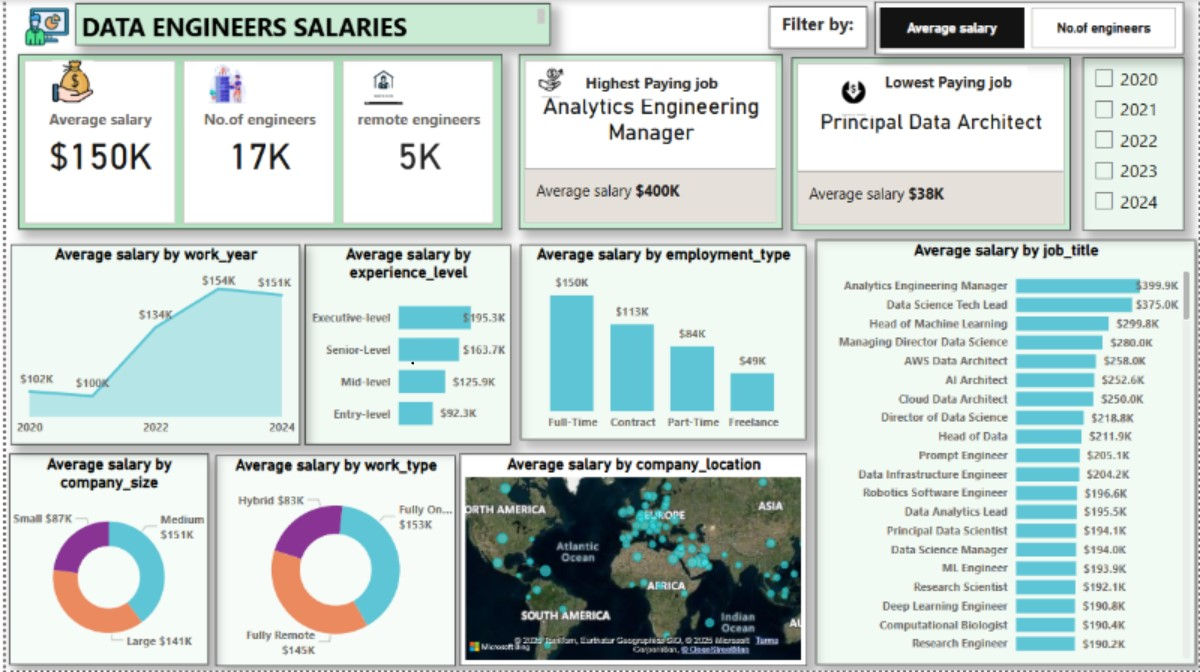

The dashboard page shown, as its layout file describes it:
{"tool":"powerbi","page":{"name":"Dashboard","canvas":[1280,720],"ordinal":0},"visuals":[{"type":"cardVisual","fields":{"Data":["All measures.Average salary","All measures.No.of engineers","All measures.No.of fully remote engineers"]},"box":[13.5,58.7,519.7,188.3],"z":0},{"type":"cardVisual","fields":{"Data":["Min(dim_job_title.job_title)"]},"box":[550.5,58.3,283.4,187.8],"z":1000},{"type":"cardVisual","fields":{"Data":["Min(dim_job_title.job_title)"]},"box":[843.6,61.5,299.6,186.2],"z":2000},{"type":"areaChart","fields":{"Y":["All measures.Average salary"],"Category":["Fact_data_salaries.work_year"]},"box":[4.9,262.3,310.9,215.4],"z":3000},{"type":"barChart","fields":{"Y":["All measures.Average salary"],"Category":["dim_experience_level.experience_level"]},"box":[320.4,261.7,221.3,215.2],"z":4000},{"type":"columnChart","fields":{"Y":["All measures.Average salary"],"Category":["dim_employment_type.employment_type"]},"box":[552.7,261.7,306.9,210.3],"z":5000},{"type":"pieChart","fields":{"Y":["All measures.Average salary"],"Category":["dim_company_size.company_size"]},"box":[3.2,487.4,213.7,226.7],"z":6000},{"type":"donutChart","fields":{"Y":["All measures.Average salary"],"Category":["Fact_data_salaries.Remote_work_type"]},"box":[225.1,489,257.5,226.7],"z":7000},{"type":"barChart","fields":{"Y":["All measures.Average salary"],"Category":["dim_job_title.job_title"]},"box":[872,257.5,408,456.6],"z":8000},{"type":"map","fields":{"Size":["All measures.Average salary"],"Category":["dim_company_location.company_location"]},"box":[487.4,487.4,372.4,228.3],"z":9000},{"type":"advancedSlicerVisual","fields":{"Values":["Selector.Selector"]},"box":[932.7,1.6,331.9,56.7],"z":10000},{"type":"textbox","box":[819.3,6.5,105.2,45.3],"z":11000},{"type":"textbox","box":[609,72.1,168.8,33],"z":12000},{"type":"textbox","box":[927.8,71.2,168.4,34],"z":13000},{"type":"slicer","title":"work year","fields":{"Values":["Fact_data_salaries.work_year"]},"box":[1156.1,61.5,108.5,186.2],"z":14000},{"type":"textbox","box":[74.6,3.7,534.4,45.2],"z":15000},{"type":"image","box":[13,0,61.5,56.7],"z":16000},{"type":"image","box":[43.7,58.3,55.1,58.3],"z":17000},{"type":"image","box":[200.8,55.1,72.9,69.6],"z":18000},{"type":"image","box":[364.3,63.1,82.6,53.4],"z":19000},{"type":"image","box":[552.2,63.1,66.4,47],"z":20000},{"type":"image","box":[859.8,71.2,100.4,58.3],"z":21000}]}

Visuals, with their boxes in screenshot pixels (x1, y1, x2, y2), scaled from the page's 1280x720 canvas onto the 1200x672 screenshot:
cardVisual - All measures.Average salary x All measures.No.of engineers: (left=13, top=55, right=500, bottom=231)
cardVisual - Min(dim_job_title.job_title): (left=516, top=54, right=782, bottom=230)
cardVisual - Min(dim_job_title.job_title): (left=791, top=57, right=1072, bottom=231)
areaChart - All measures.Average salary x Fact_data_salaries.work_year: (left=5, top=245, right=296, bottom=446)
barChart - All measures.Average salary x dim_experience_level.experience_level: (left=300, top=244, right=508, bottom=445)
columnChart - All measures.Average salary x dim_employment_type.employment_type: (left=518, top=244, right=806, bottom=441)
pieChart - All measures.Average salary x dim_company_size.company_size: (left=3, top=455, right=203, bottom=666)
donutChart - All measures.Average salary x Fact_data_salaries.Remote_work_type: (left=211, top=456, right=452, bottom=668)
barChart - All measures.Average salary x dim_job_title.job_title: (left=818, top=240, right=1199, bottom=666)
map - All measures.Average salary x dim_company_location.company_location: (left=457, top=455, right=806, bottom=668)
advancedSlicerVisual - Selector.Selector: (left=874, top=1, right=1186, bottom=54)
textbox: (left=768, top=6, right=867, bottom=48)
textbox: (left=571, top=67, right=729, bottom=98)
textbox: (left=870, top=66, right=1028, bottom=98)
"work year" slicer: (left=1084, top=57, right=1186, bottom=231)
textbox: (left=70, top=3, right=571, bottom=46)
image: (left=12, top=0, right=70, bottom=53)
image: (left=41, top=54, right=93, bottom=109)
image: (left=188, top=51, right=257, bottom=116)
image: (left=342, top=59, right=419, bottom=109)
image: (left=518, top=59, right=580, bottom=103)
image: (left=806, top=66, right=900, bottom=121)
